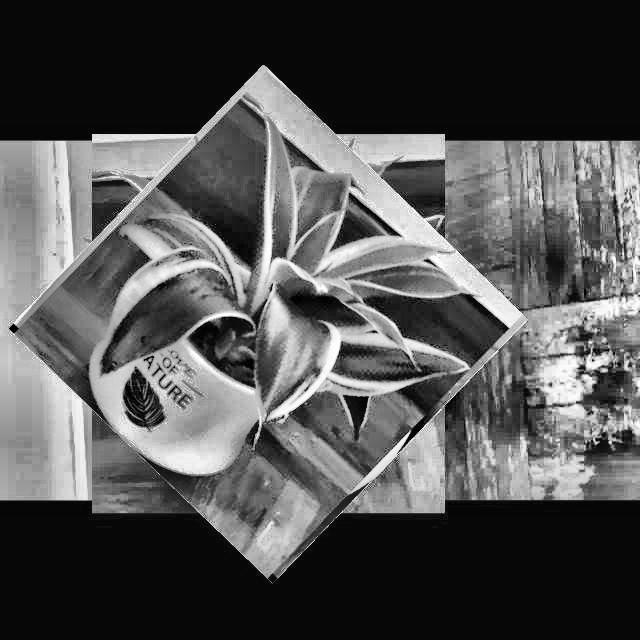plants: (47, 102, 490, 545)
